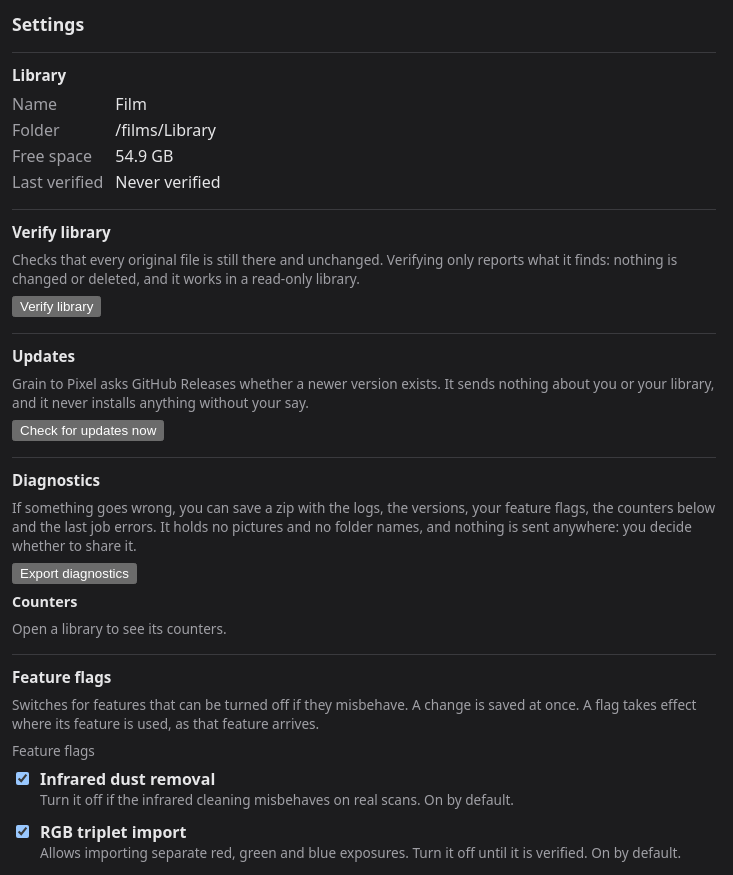
Test: verifying the library from Settings › while it runs › says so when the check could not be started
This screenshot has width=733, height=875.
Click the button "Verify library": (57, 306) left=12, top=296, right=101, bottom=317
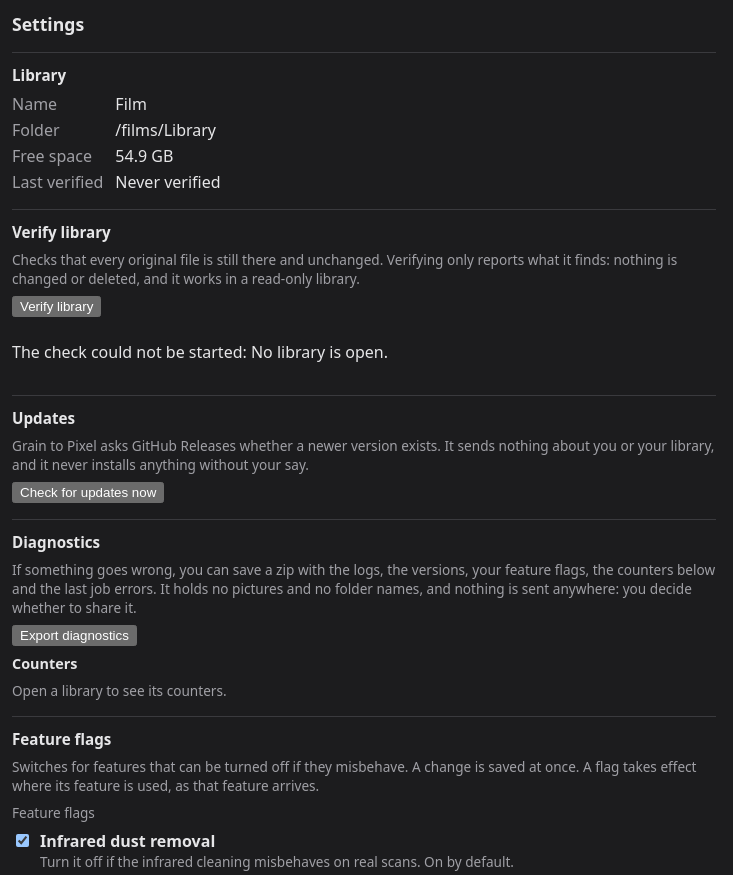
Check: the message reads "The check could not be started: No library is open.", box left=12, top=341, right=388, bottom=363
